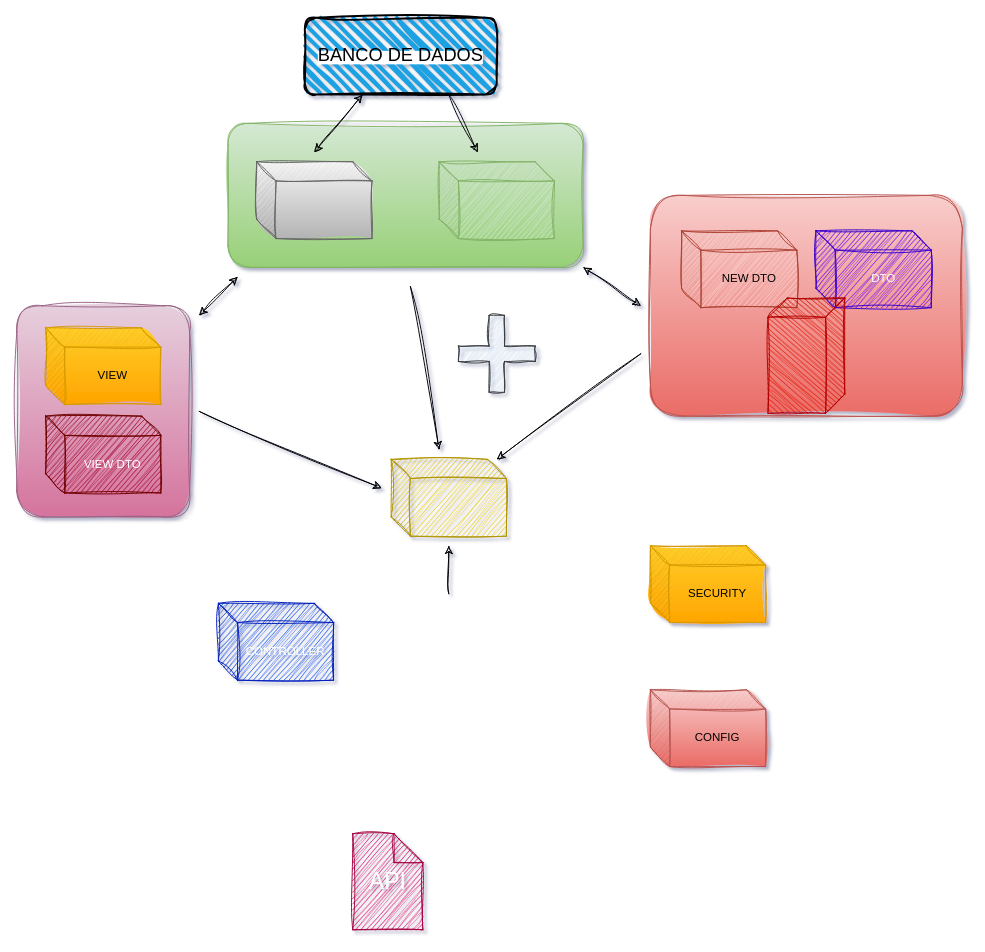
This 985x952 diagram has some shape labels left out. The shapes that lost their labels are listed below. From the top down, each one's centre as x and y in pixels, then its label:
At (x=314, y=200): "REPOSITORY".
At (x=496, y=200): "MODEL".
At (x=806, y=355): "UPDATE DTO".
At (x=448, y=497): "SERVICE".
